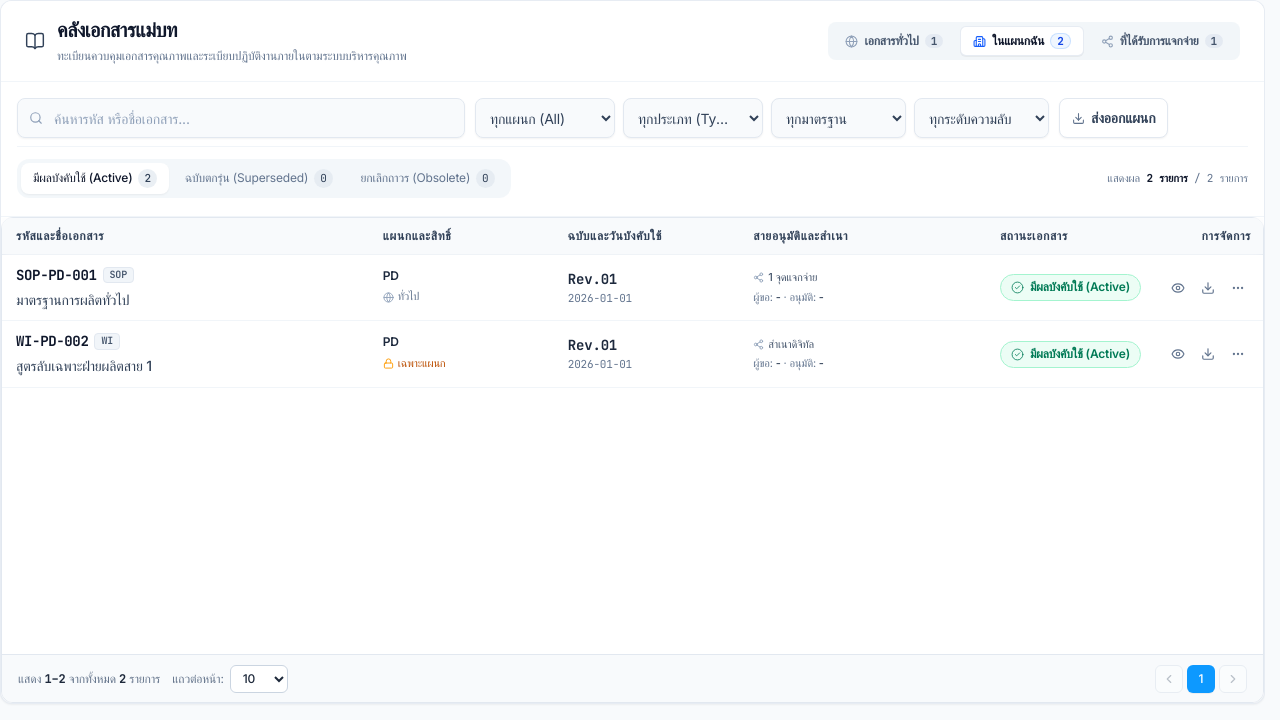
Test: Library 3-Tier Tab Navigation & 4-Tier Access Scope Integration Tests › 4. Tab "เอกสารที่ได้รับการแจกจ่าย" displays shared/distributed docs from other depts
Step 1. Click the button with aria-label "เอกสารที่ได้รับการแจกจ่าย" → (1162, 41), box top-left (1088, 26), bottom-right (1236, 56)
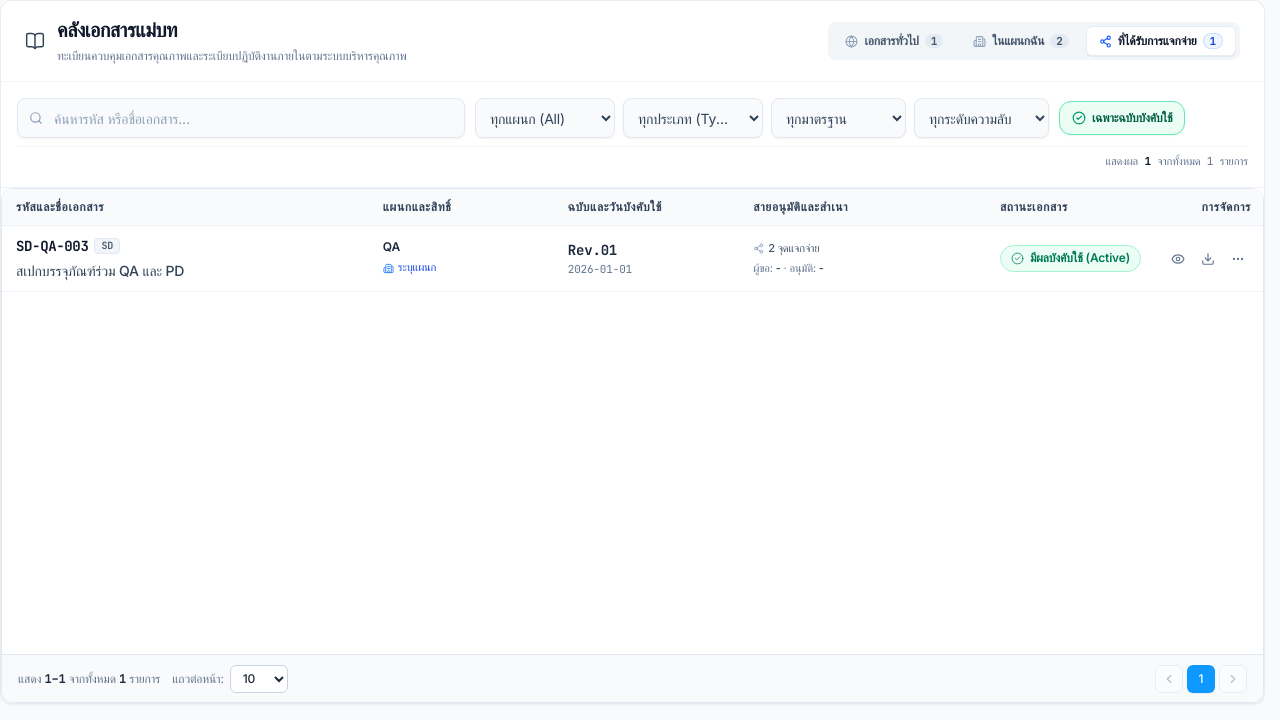
expect the text "SD-QA-003" is shown: met, box top-left (16, 236), bottom-right (88, 256)
expect the text "SOP-PD-001" is gone: met
expect the text "WI-PD-002" is gone: met
